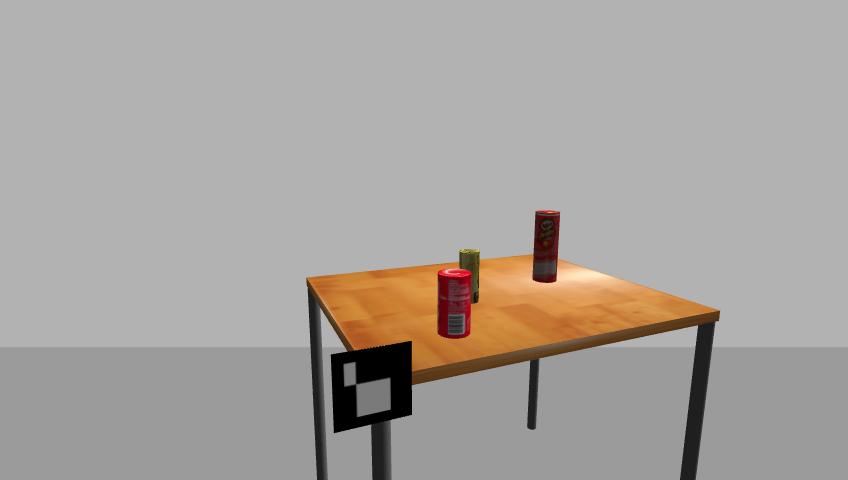aruco marker: (325, 340, 418, 435)
biscuits pack: (459, 248, 481, 306)
coke can: (435, 268, 472, 339)
dinner table: (297, 252, 730, 479)
pringles can: (531, 211, 562, 285)
